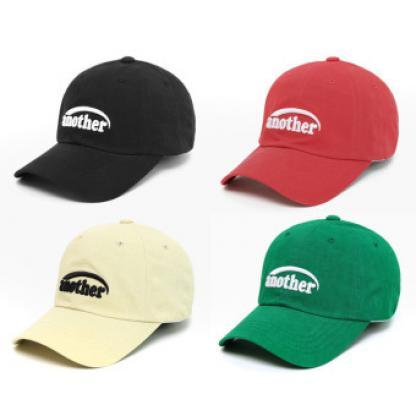cap: (6, 213, 200, 372), (210, 49, 405, 207), (6, 49, 200, 203), (212, 215, 402, 372)
